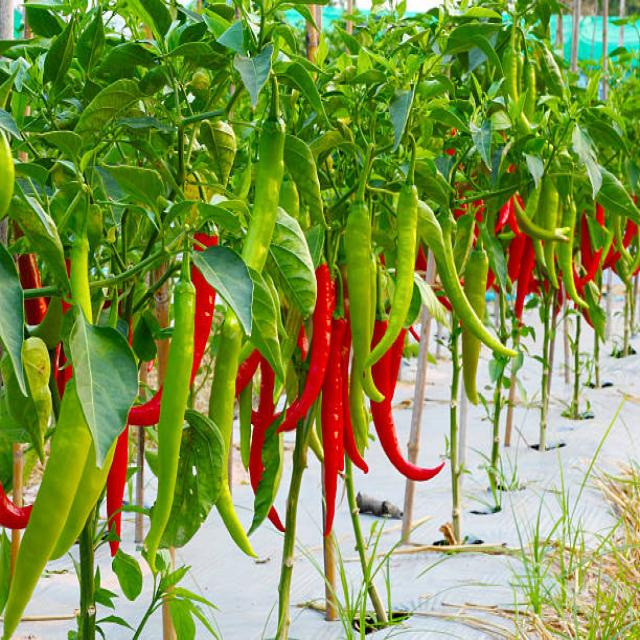Ripe: (368, 356, 444, 482), (280, 263, 332, 433), (322, 319, 347, 536), (108, 425, 128, 535), (111, 540, 118, 555)
Unripe: (5, 381, 90, 637), (145, 281, 195, 564), (208, 320, 254, 555), (344, 207, 380, 456), (50, 440, 116, 559), (373, 192, 415, 365), (242, 123, 283, 271)
